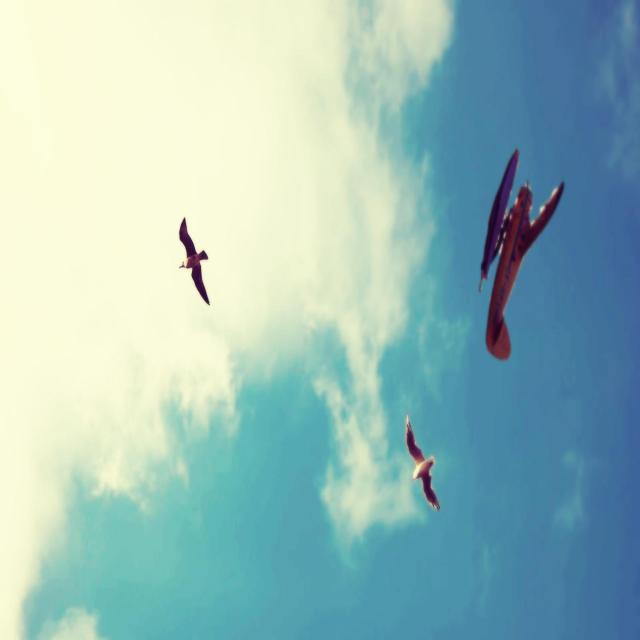airplane: (478, 147, 564, 360)
